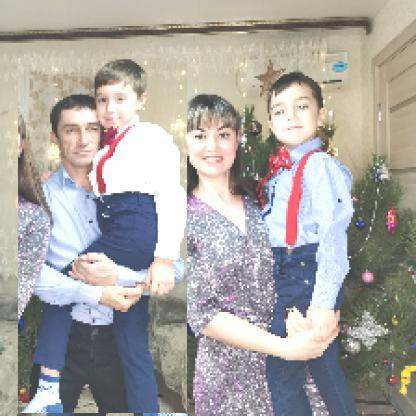child: (19, 59, 189, 415), (256, 72, 358, 416)
